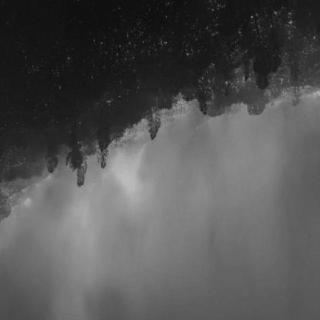Fire: (4, 139, 153, 237)
